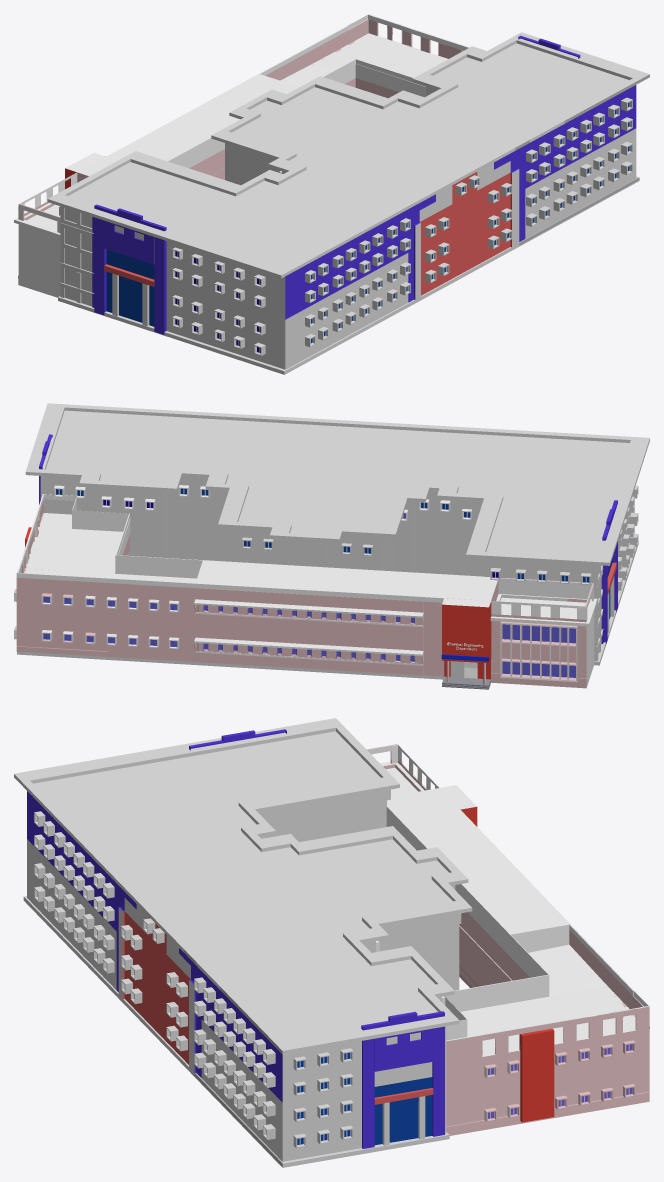
The model's file is NIT_Chemical_Dept_By Ayush_Final.fbx.
The picture shows the model from 3 angles, top to bottom: view 1: azimuth 30°, elevation 25°; view 2: azimuth 150°, elevation 25°; view 3: azimuth 270°, elevation 25°; orthographic projection. The views are drawn at different scales.
Visible parts, largest first — view 1: Cube, Cube.001; view 2: Cube, Cube.001; view 3: Cube, Cube.001, Cube.002.
Boxes of the visible parts, left/top/right/bottom form: Cube: left=47, top=32, right=649, bottom=374; Cube.001: left=14, top=14, right=469, bottom=297; Cube: left=25, top=403, right=649, bottom=665; Cube.001: left=14, top=494, right=597, bottom=689; Cube: left=14, top=718, right=472, bottom=1167; Cube.001: left=366, top=744, right=649, bottom=1135; Cube.002: left=293, top=1048, right=353, bottom=1148.
Size of the model in its own units: 12355 by 2235 by 9859.
